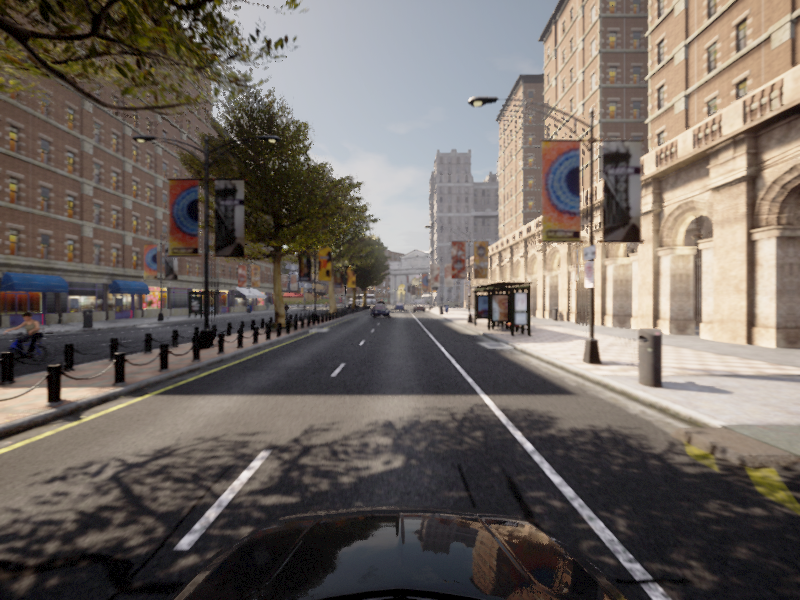vehicle: (1, 311, 60, 369), (369, 305, 390, 318), (279, 302, 291, 320)
